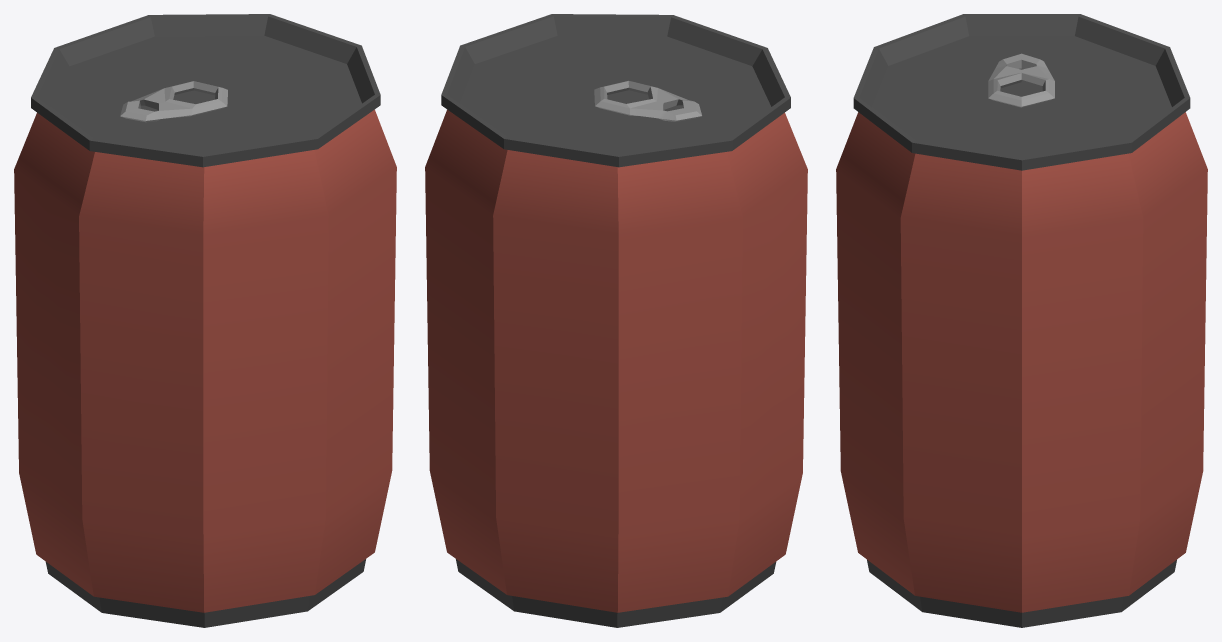
File: LataPequeña.fbx
3 views of the same model, side by side, from view 1: azimuth 30°, elevation 25°; view 2: azimuth 150°, elevation 25°; view 3: azimuth 270°, elevation 25° (orthographic).
Parts seen in each view (by area): view 1: LataP, BocaP; view 2: LataP, BocaP; view 3: LataP, BocaP.
Part boxes in pixels (x1,y1,x2,y2): LataP: (14,14,396,627); BocaP: (120,81,227,122); LataP: (425,14,807,627); BocaP: (594,80,701,121); LataP: (836,14,1207,627); BocaP: (988,53,1054,107).
Bounding box in the file's own units: 1.26 × 1.74 × 1.23.
